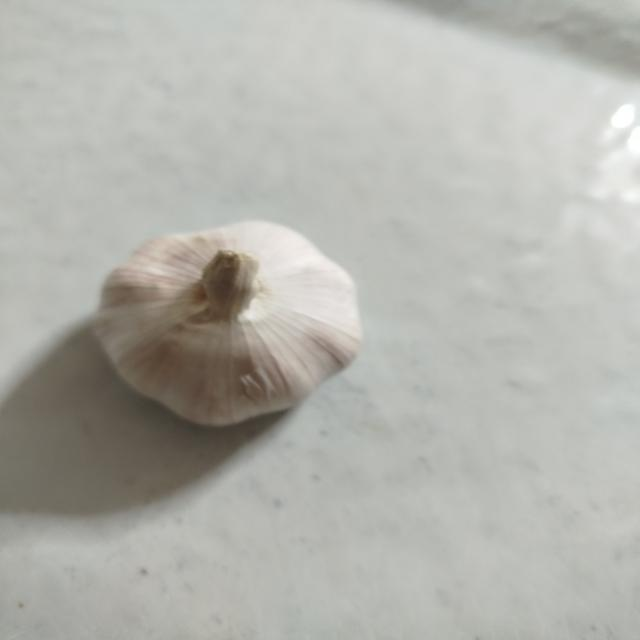garlic: (91, 218, 364, 428)
